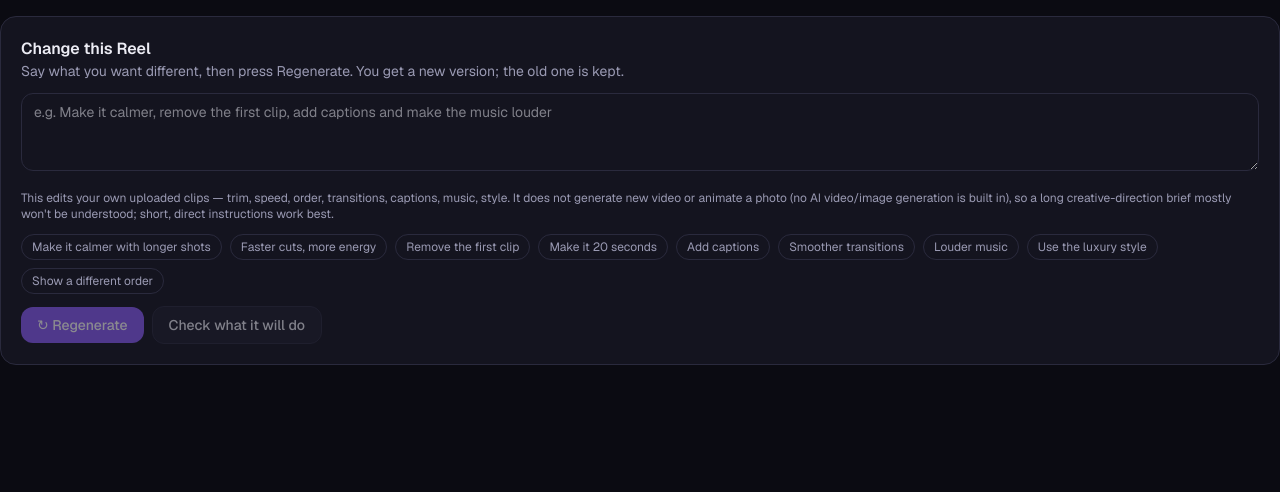
Scenario: ReviseBox (change a Reel with words) › sends the words on Regenerate, shows what was understood and clears the box
The image size is (1280, 492).
Expected: the button "↻ Regenerate" is disabled, [21,307,144,343]
Step 1. Type "remove the first clip" into the text box named "What should change?" → (640, 132), box [21,93,1259,171]
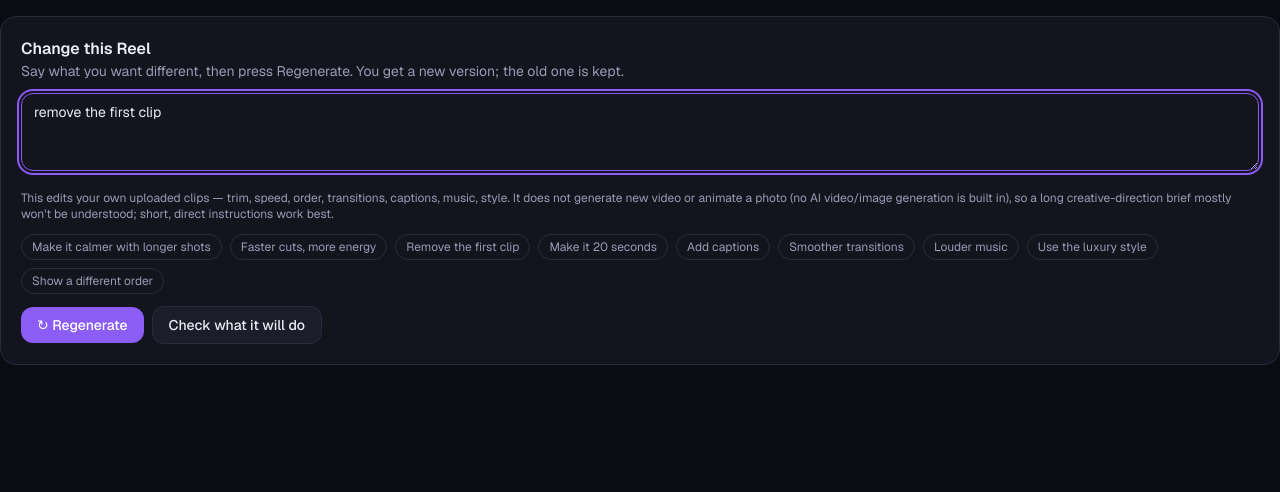
Step 2. Click the button "↻ Regenerate" → (82, 325), box [21,307,144,343]
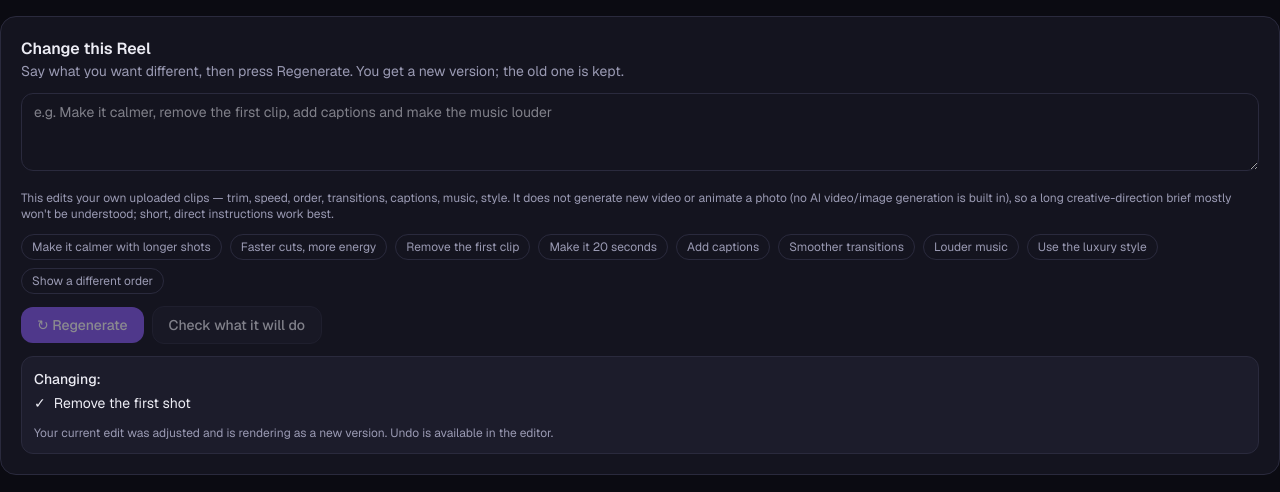
Now the text "Remove the first shot" is shown, box [54,393,191,413]
Now the text "Changing:" is shown, box [34,370,101,388]
Now the text box named "What should change?" is empty, box [21,93,1259,171]
